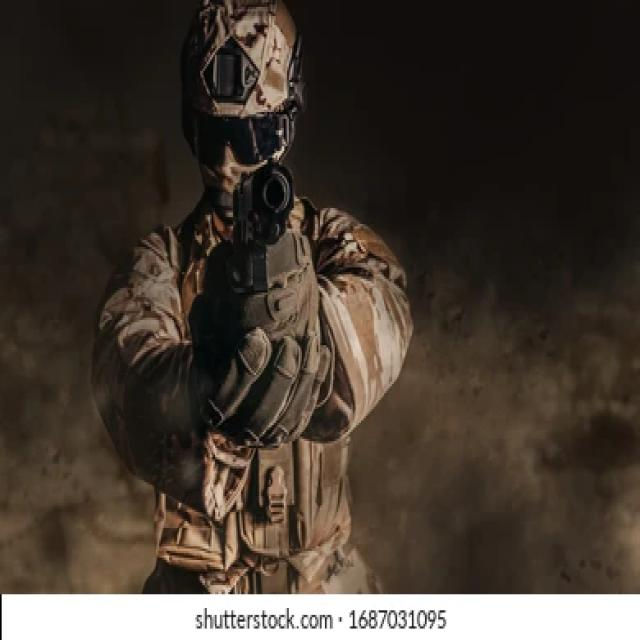soldier: (95, 1, 415, 605)
